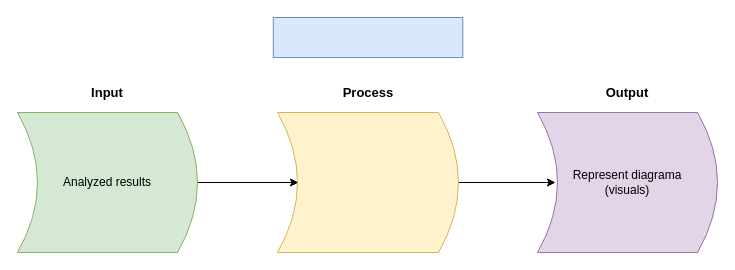
Image size: 735x270. Some labels were removed from this diagram. Each missing label, with the centre of its shape:
"Create basic diagrams and graphs based on the results of the analysis" belongs at pixel 367 182.
"Visualization" belongs at pixel 367 37.
